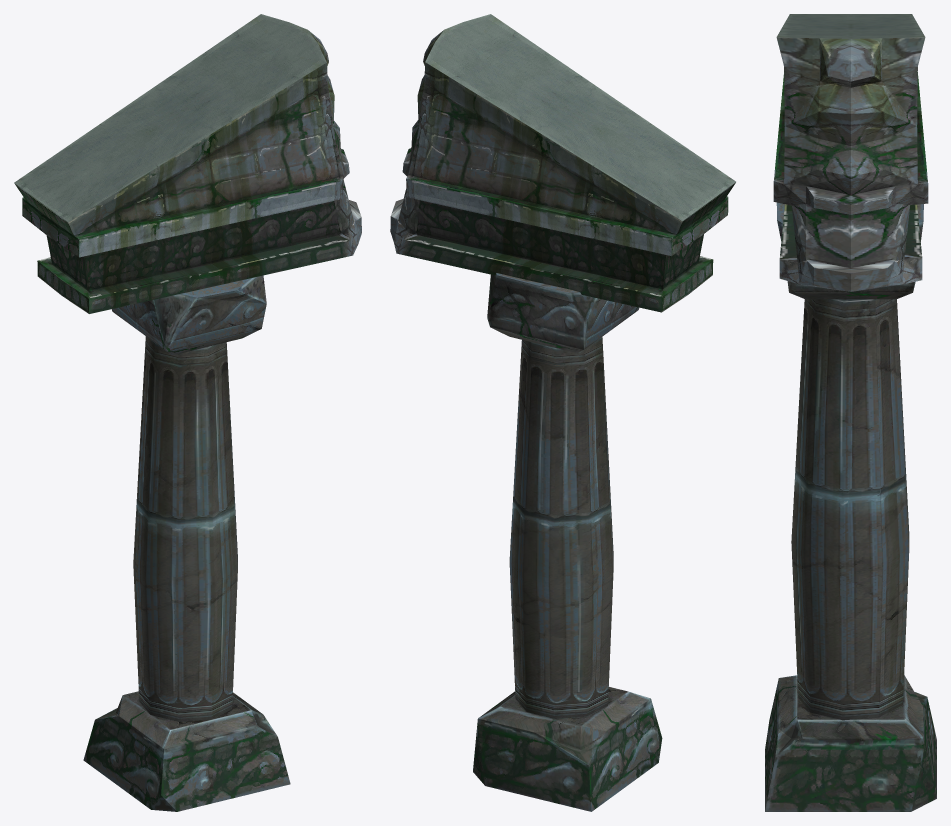
File: stemple_pillar_02.fbx
3 renders of one model, left to right at view 1: azimuth 30°, elevation 25°; view 2: azimuth 150°, elevation 25°; view 3: azimuth 270°, elevation 25°, orthographic. The views are drawn at different scales.
Parts seen in each view (by area): view 1: stemple_pillar_02-0; view 2: stemple_pillar_02-0; view 3: stemple_pillar_02-0.
Part boxes in pixels (x1,y1,x2,y2): stemple_pillar_02-0: (14,14,361,811); stemple_pillar_02-0: (390,14,735,811); stemple_pillar_02-0: (765,14,936,811).
Bounding box in the file's own units: 5.39 × 11.62 × 2.26.
